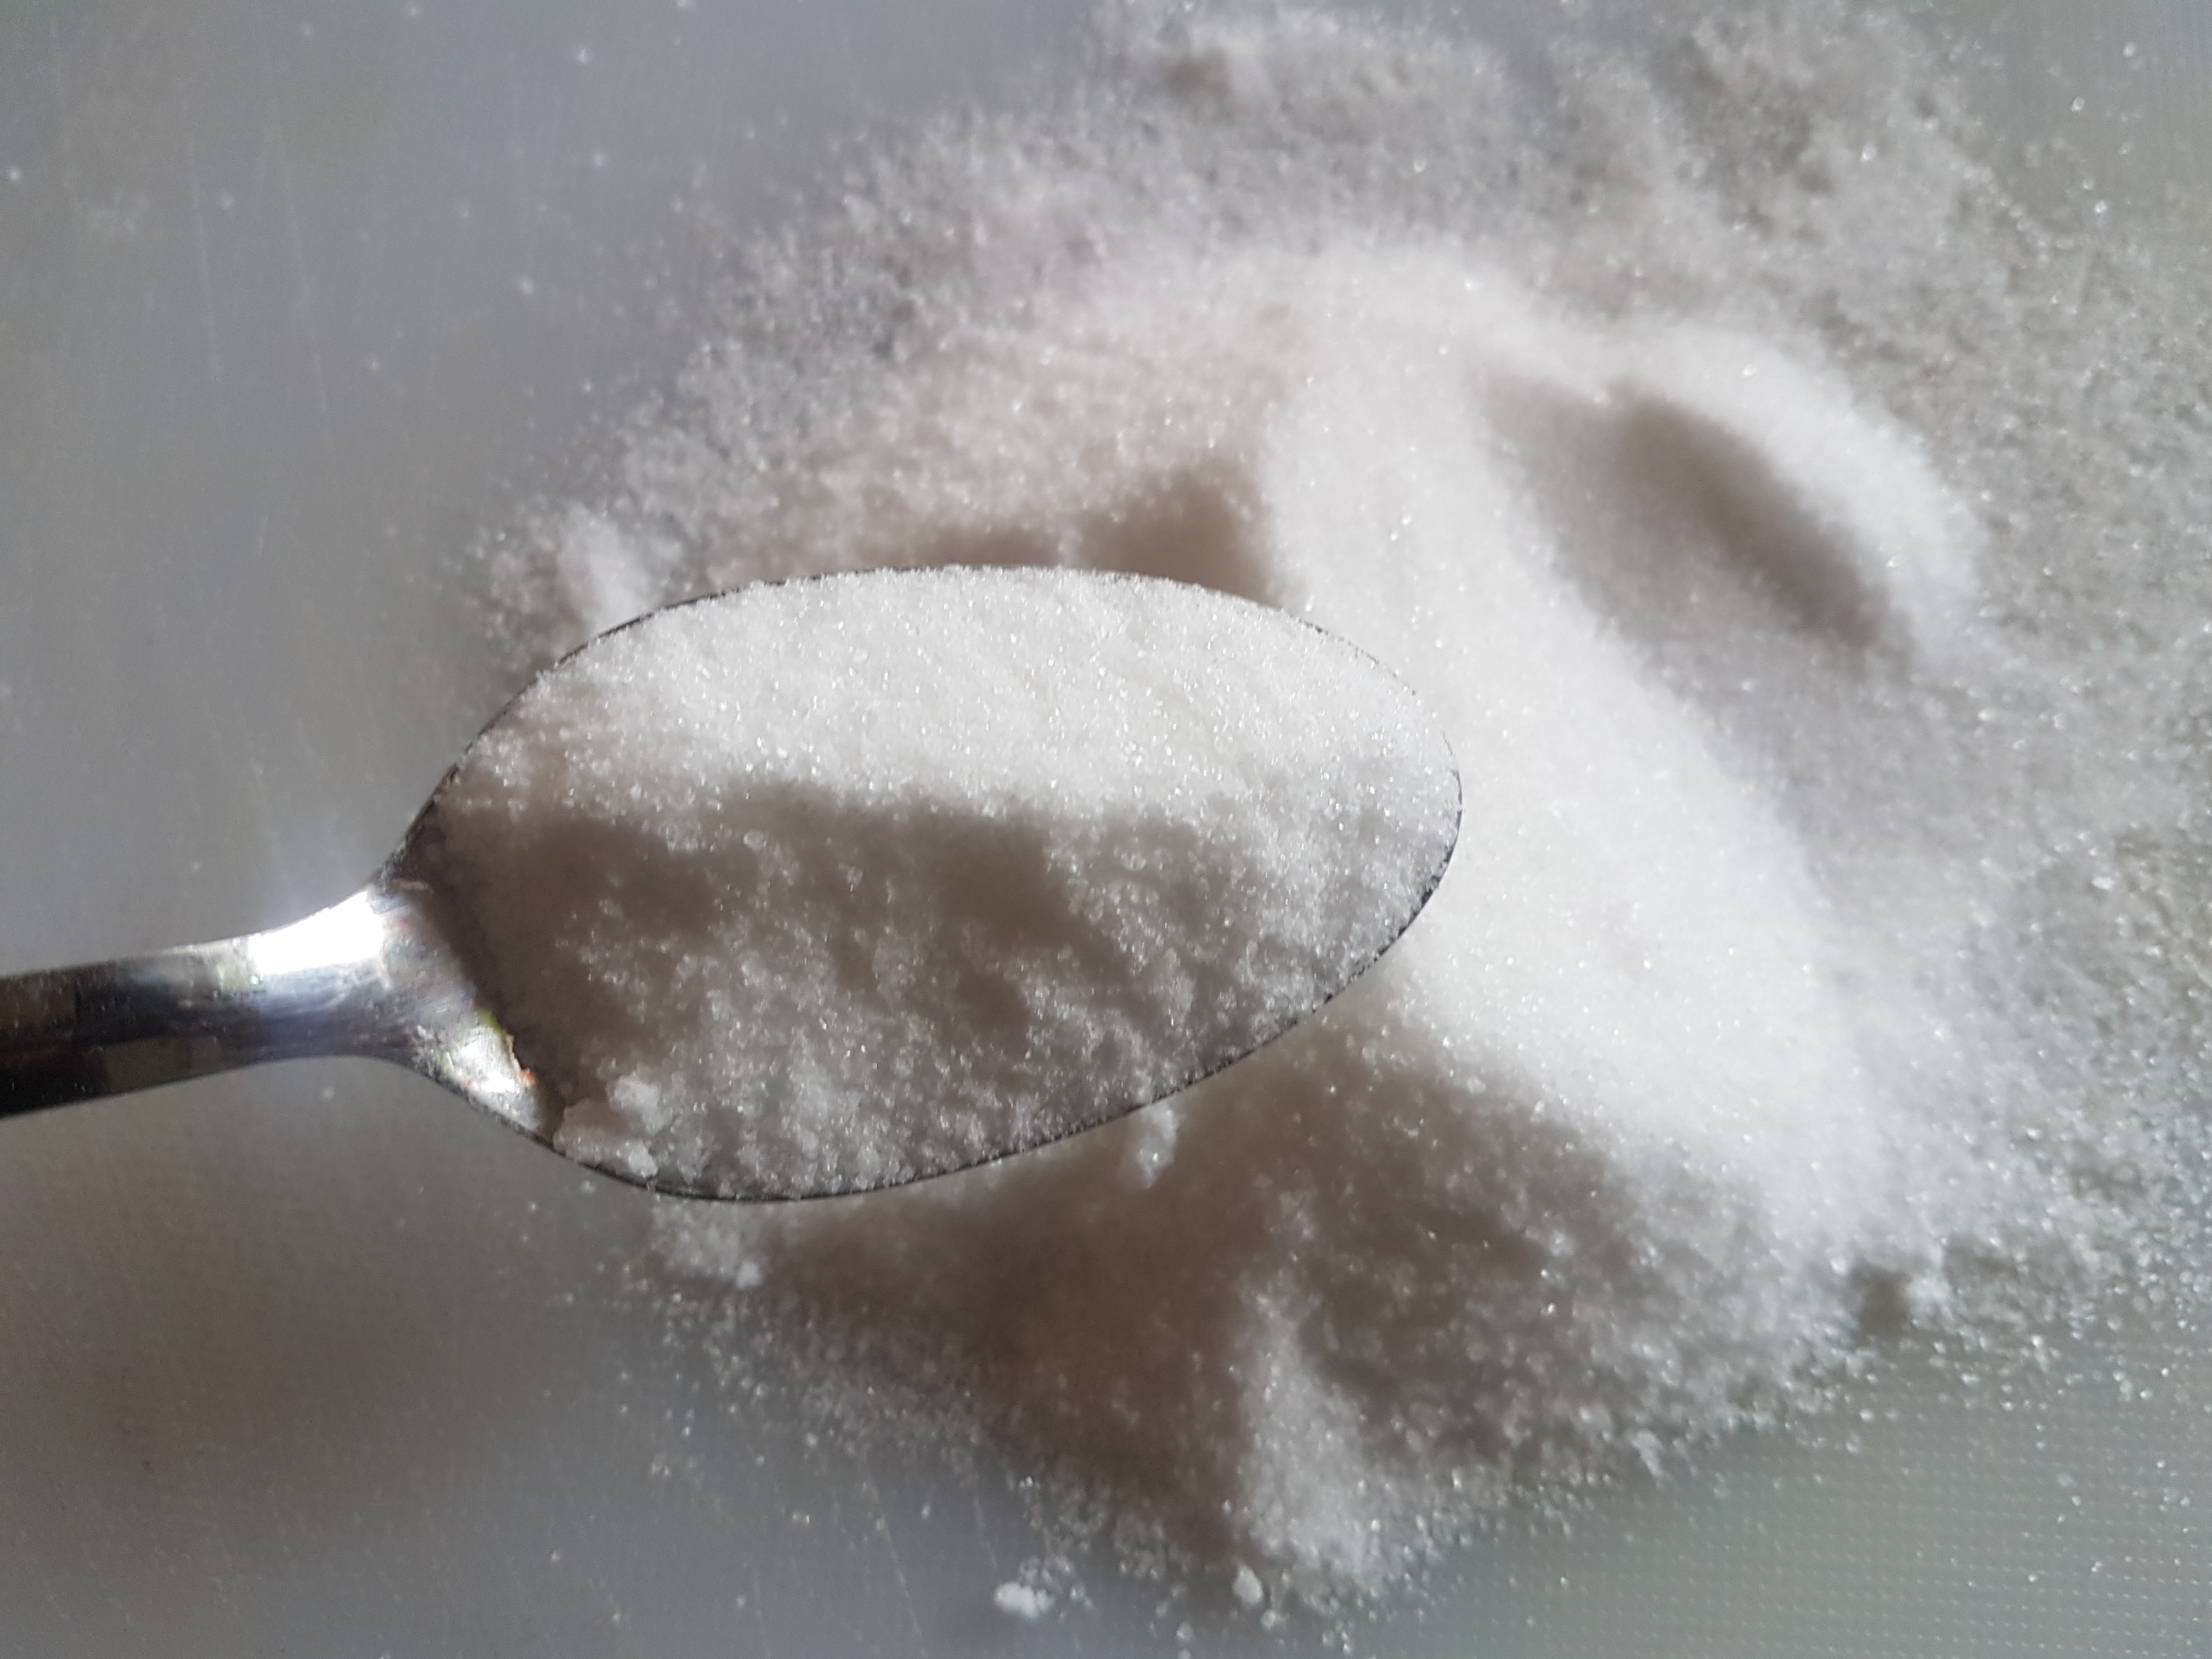Sugar: (662, 293, 2202, 1610), (415, 605, 1439, 1161)
